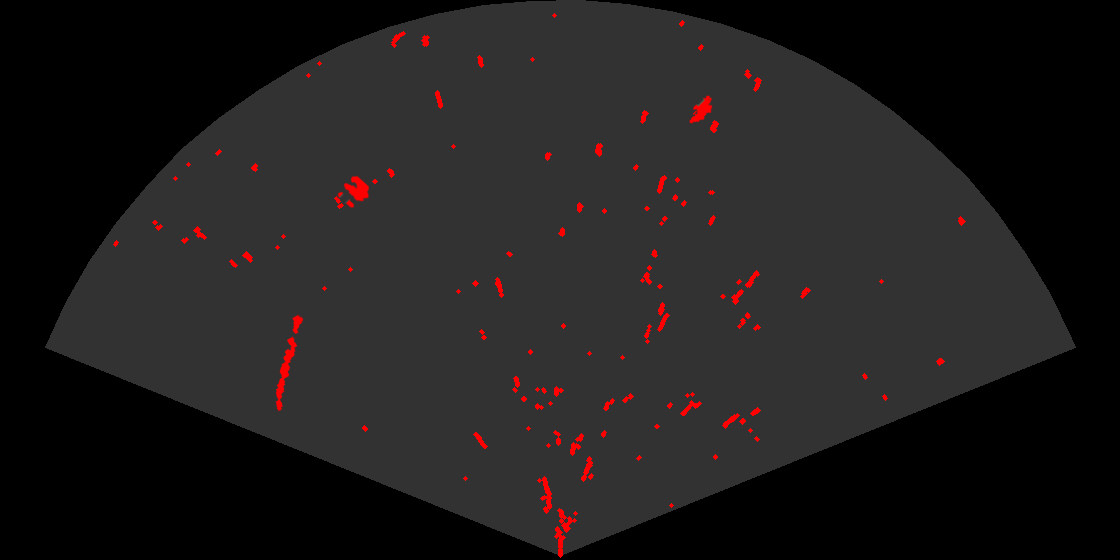AUV: (688, 94, 714, 125)
ball: (336, 174, 371, 209)
chain: (274, 313, 305, 413)
